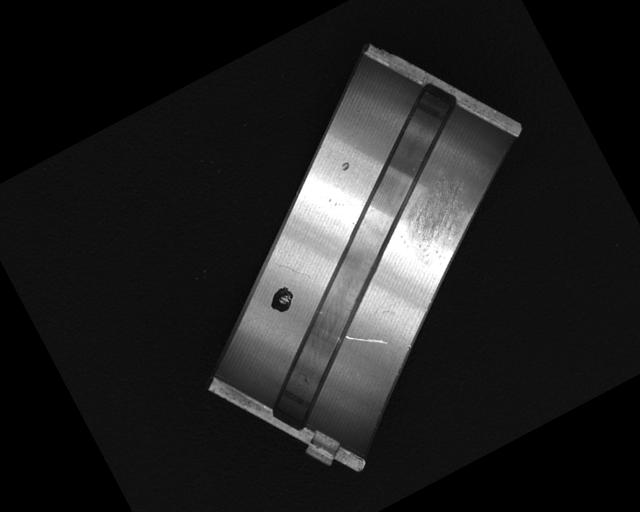blot: (264, 282, 301, 319)
bruise: (338, 159, 353, 174)
gap: (171, 78, 559, 438)
nick: (344, 318, 389, 358), (276, 251, 313, 290)
scratch: (387, 170, 496, 276)
